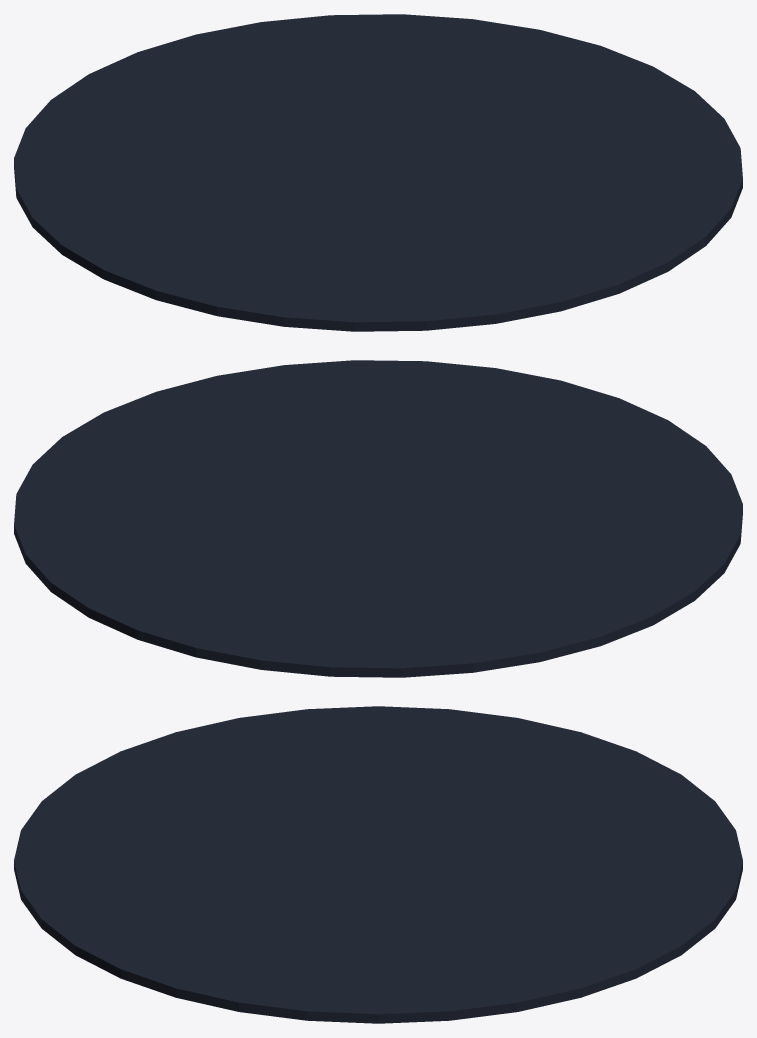
File: COL_PlazaPlatform_Deck.obj
The picture shows the model from 3 angles, top to bottom: view 1: azimuth 30°, elevation 25°; view 2: azimuth 150°, elevation 25°; view 3: azimuth 270°, elevation 25°; orthographic projection.
Visible parts, largest first — view 1: COL_PlazaPlatform_Deck; view 2: COL_PlazaPlatform_Deck; view 3: COL_PlazaPlatform_Deck.
Part boxes in pixels (x1,y1,x2,y2): COL_PlazaPlatform_Deck: [14, 14, 742, 331]; COL_PlazaPlatform_Deck: [14, 360, 742, 677]; COL_PlazaPlatform_Deck: [14, 706, 742, 1023].
Size of the model in its own units: 140 by 2 by 140.
Materials: 1 (1 with a texture image).
